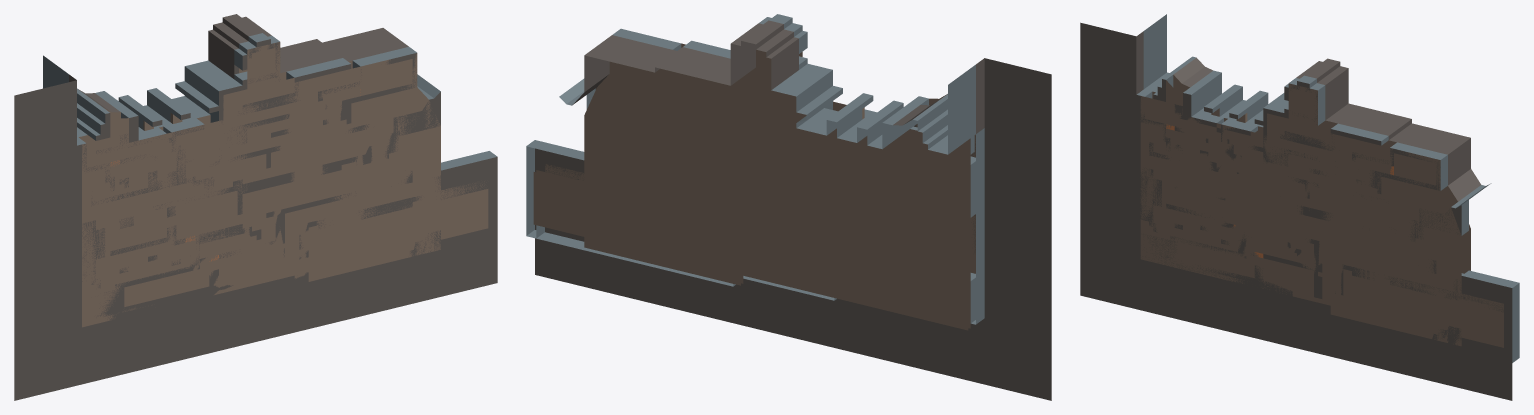
Rendered from Level_3.fbx.
3 views of the same model, side by side, from view 1: azimuth 30°, elevation 25°; view 2: azimuth 150°, elevation 25°; view 3: azimuth 330°, elevation 25° (orthographic). The views are drawn at different scales.
Visible parts, largest first — view 1: Level3_LightBlock, Level3_Fill, Level3_BG, Level_3_001, Level_3_003, Level_3_000, Level_3_006, Level_3_009, Level_3_004, Level_3_010, Level_3_005, Level_3_008 (+2 smaller); view 2: Level3_BGWall, Level3_Fill, Level3_BG, Level_3_001, Level_3_010, Level_3_006, Level3_LightBlock, Level_3_000, Level_3_003, Level_3_004; view 3: Level3_LightBlock, Level3_Fill, Level3_BG, Level_3_001, Level_3_003, Level_3_000, Level_3_006, Level_3_010, Level_3_004, Level_3_009, Level_3_005, Level3_BGWall (+1 smaller).
Part boxes in pixels (x1,y1,x2,y2): Level3_LightBlock: (82, 42, 488, 327); Level3_Fill: (14, 74, 497, 400); Level3_BG: (43, 14, 432, 137); Level_3_001: (278, 151, 497, 287); Level_3_003: (88, 107, 242, 214); Level_3_000: (77, 224, 277, 323); Level_3_006: (201, 33, 289, 168); Level_3_009: (242, 85, 440, 193); Level_3_004: (318, 47, 416, 132); Level_3_010: (77, 137, 114, 288); Level_3_005: (238, 58, 351, 137); Level_3_008: (110, 206, 185, 273); Level3_BGWall: (533, 49, 970, 330); Level3_Fill: (535, 58, 1051, 400); Level3_BG: (559, 20, 975, 154); Level_3_001: (526, 140, 763, 286); Level_3_010: (970, 128, 984, 281); Level_3_006: (759, 14, 842, 109); Level3_LightBlock: (545, 43, 975, 273); Level_3_000: (761, 276, 984, 324); Level_3_003: (855, 93, 947, 130); Level_3_004: (612, 28, 681, 50); Level3_LightBlock: (1140, 80, 1503, 347); Level3_Fill: (1080, 22, 1512, 400); Level3_BG: (1143, 14, 1491, 202); Level_3_001: (1316, 264, 1519, 363); Level_3_003: (1149, 73, 1257, 173); Level_3_000: (1136, 218, 1315, 306); Level_3_006: (1252, 75, 1325, 198); Level_3_010: (1136, 89, 1170, 232); Level_3_004: (1352, 142, 1447, 198); Level_3_009: (1297, 200, 1468, 241); Level_3_005: (1280, 123, 1388, 175); Level3_BGWall: (1152, 75, 1470, 273).
Bounding box in the file's own units: 102 × 61.75 × 12.52.
